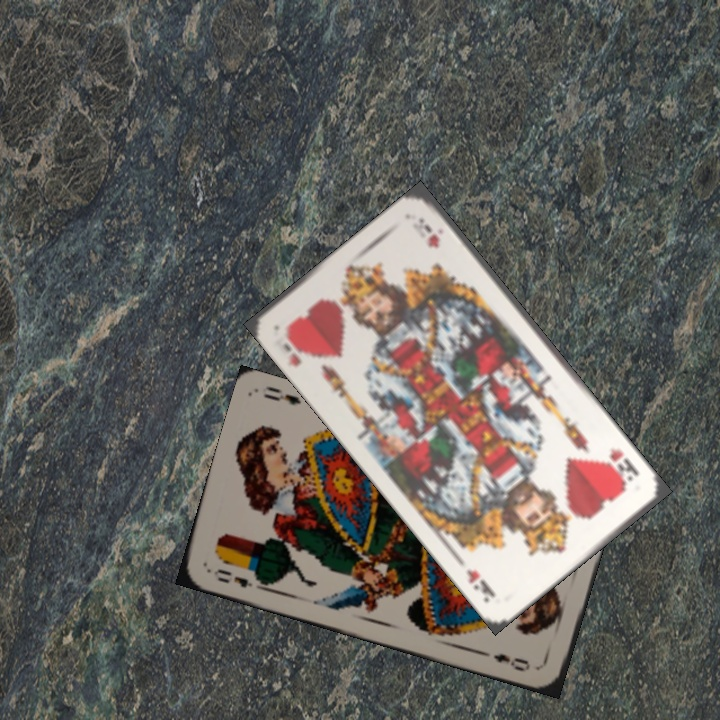EO: (209, 564, 264, 591)
HK: (604, 443, 642, 487), (279, 323, 311, 369)
